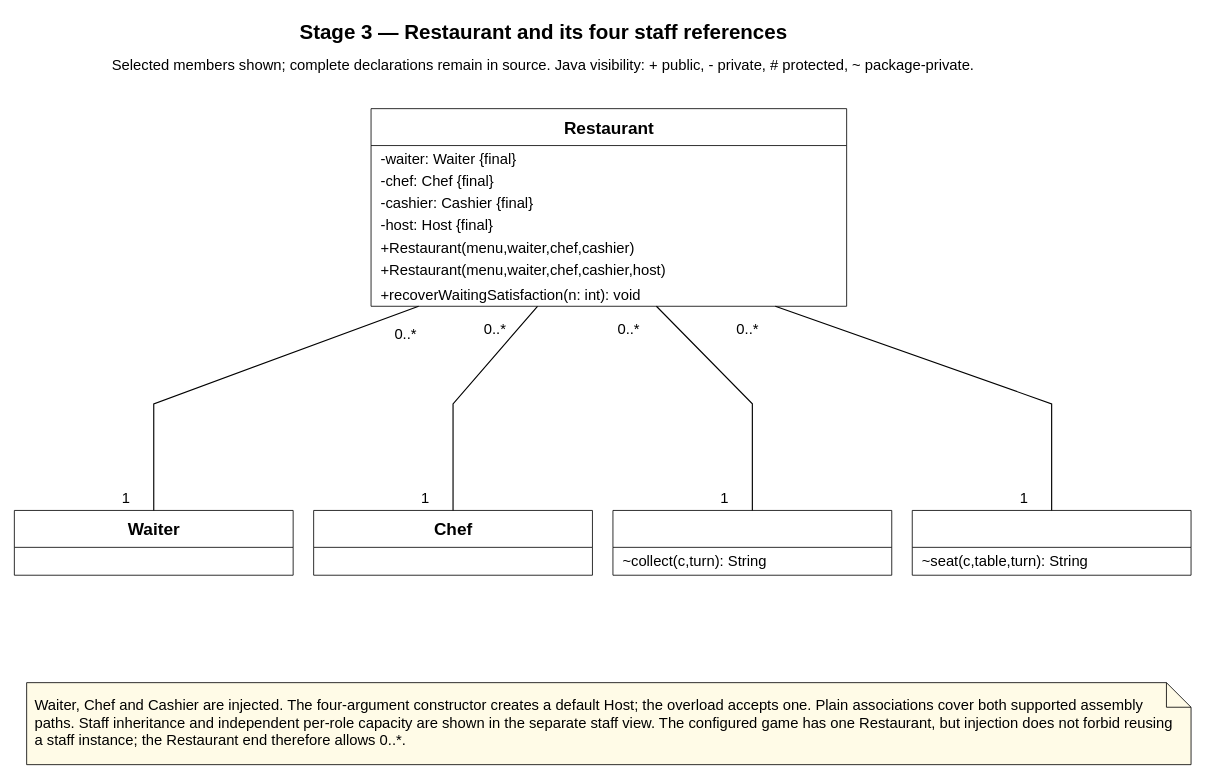
Some shapes in this 1205 by 779 pixel diagram are drawn without their labels. The shapes that lost their labels are listed below. From the top down, each one's box as (x1, y1, x2, y2) in pixels, then its label:
(22, 550, 285, 572): +takeOrder(c,item,bill,turn): String
(321, 550, 584, 572): +prepare(order,turn): String
(612, 510, 892, 575): Cashier
(911, 510, 1191, 575): Host
